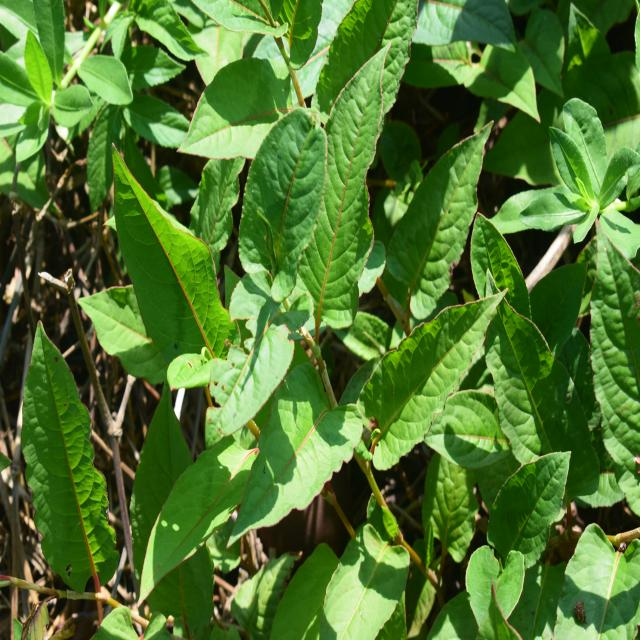Chinese_knotweed: (218, 83, 453, 513)
